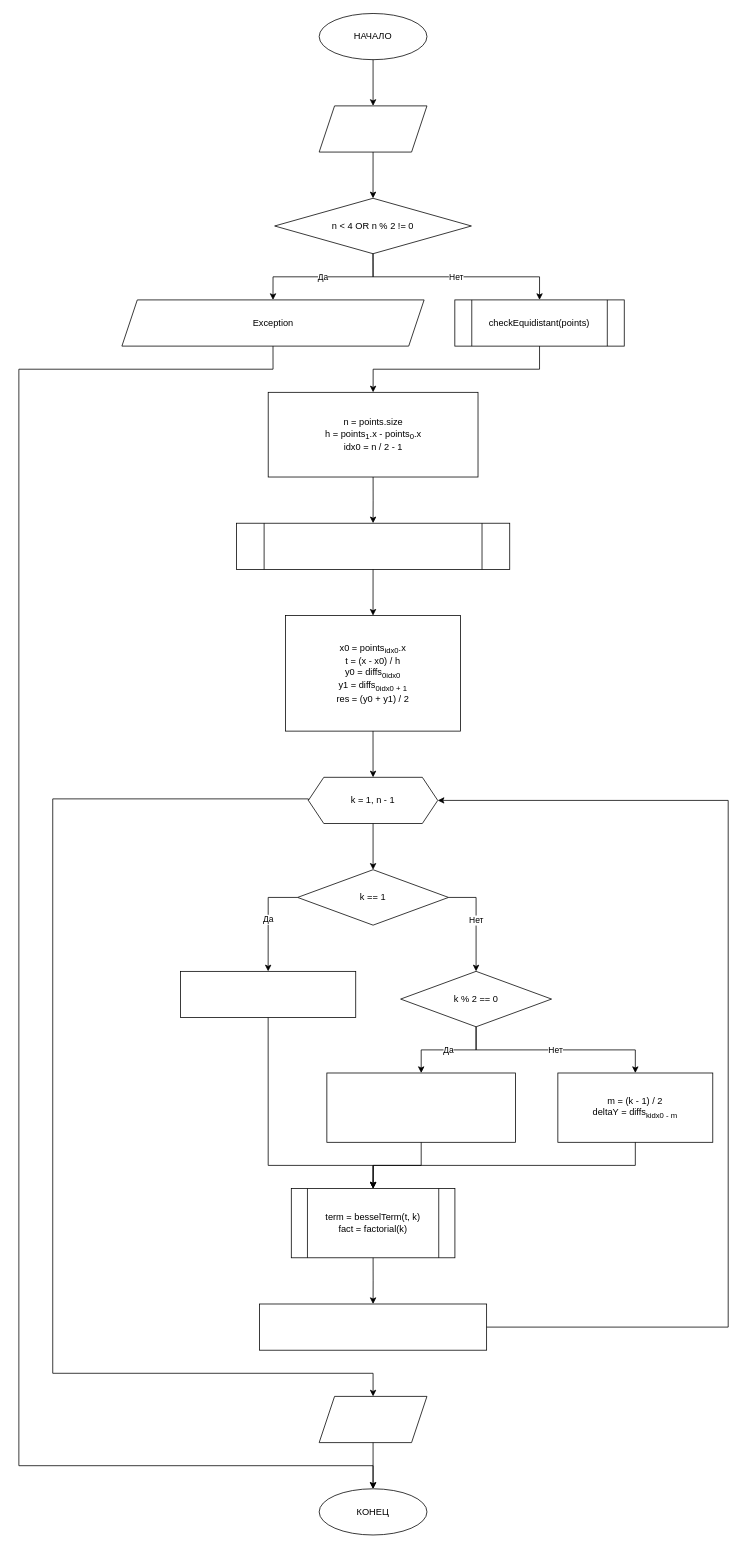
This 748x1548 diagram has some shape labels left out. Each missing label, with the centre of its shape:
"deltaY = diffs 1 idx0" belongs at [268,994].
"diffs = calculateFiniteDifferences(points)" belongs at [373,545].
"m = k / 2 deltaY = (diffs k idx0 - m + diffs k idx0 - m + 1 ) / 2" belongs at [421,1107].
"points, x" belongs at [372,128].
"res" belongs at [372,1419].
"res = res + (term * deltaY) / fact" belongs at [373,1326].
